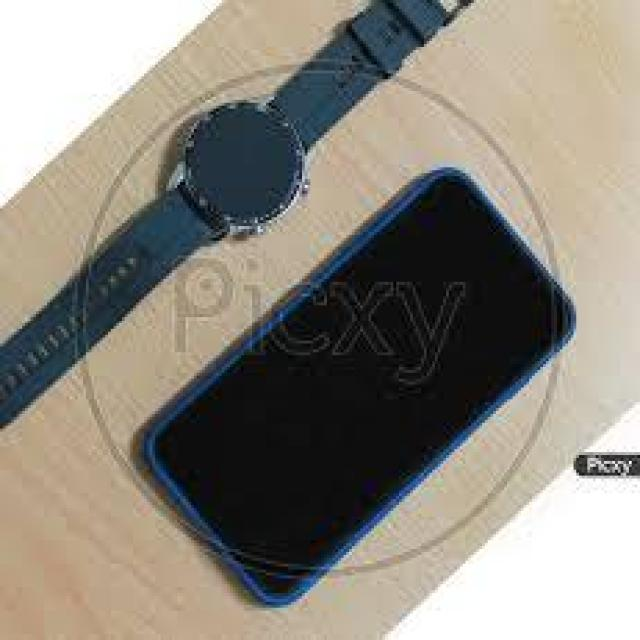smart phone: (198, 170, 594, 618)
watch: (130, 50, 425, 247)
